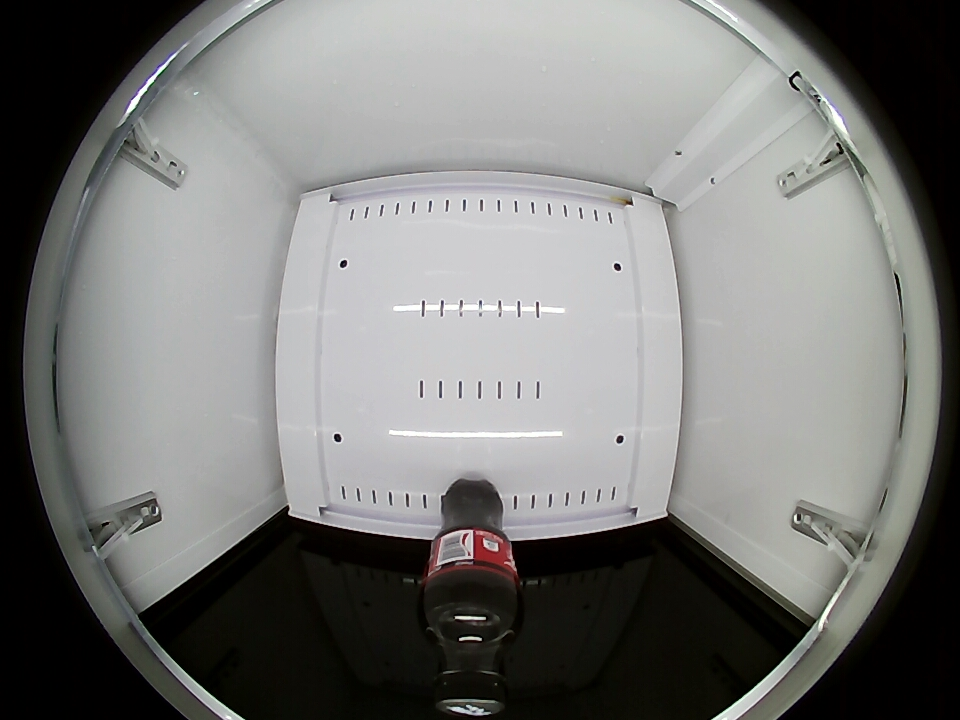lingdukele-b: (424, 597, 520, 716)
